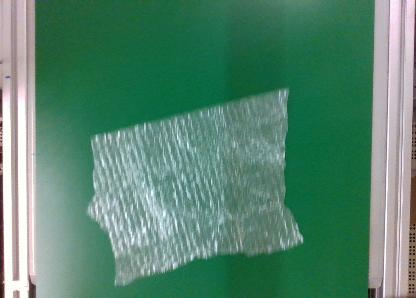Others: (89, 87, 305, 288)
